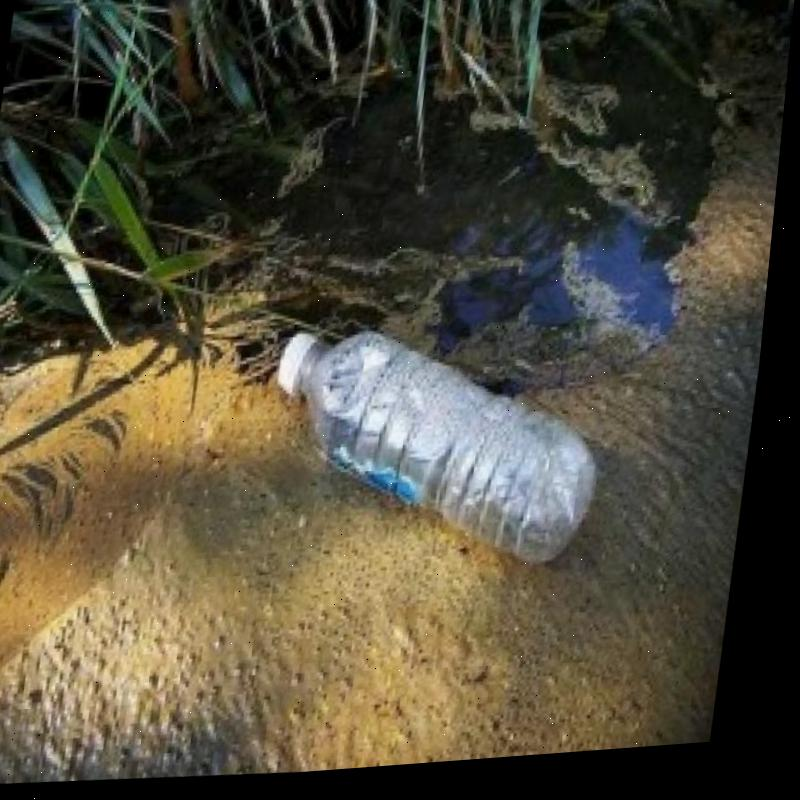botella: (259, 316, 627, 590)
